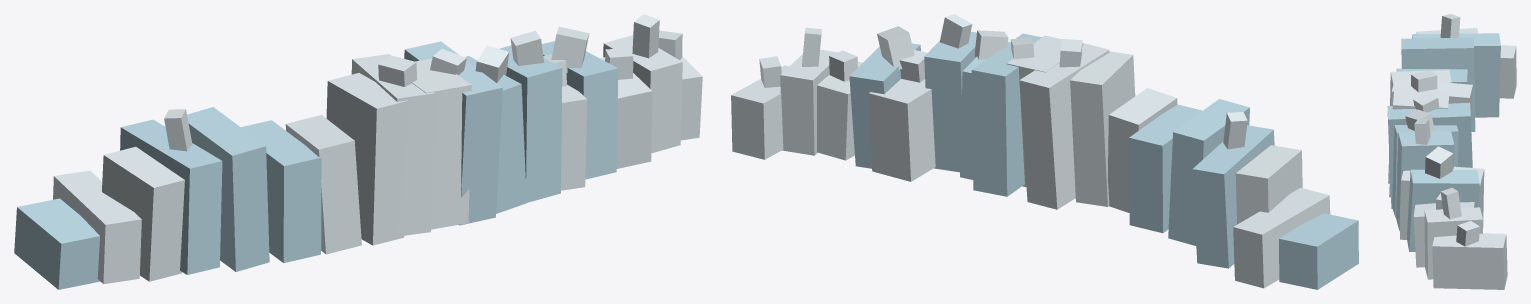
The picture shows the model from 3 angles, left to right: view 1: azimuth 30°, elevation 25°; view 2: azimuth 150°, elevation 25°; view 3: azimuth 270°, elevation 25°; orthographic projection. The views are drawn at different scales.
Parts seen in each view (by area): view 1: WB_glacierSnout; view 2: WB_glacierSnout; view 3: WB_glacierSnout.
Part boxes in pixels (x1,y1,x2,y2): WB_glacierSnout: (14,14,702,289); WB_glacierSnout: (731,14,1358,289); WB_glacierSnout: (1387,14,1516,289).
Size of the model in its own units: 69.99 by 16.14 by 17.28.
